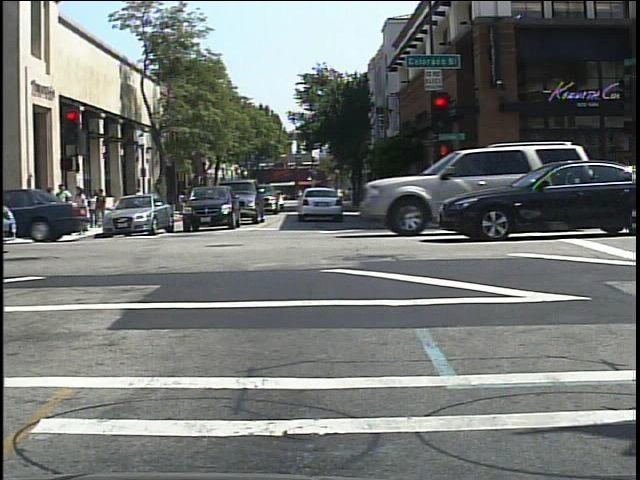person: (85, 187, 100, 229), (174, 183, 191, 219), (132, 183, 147, 215)
